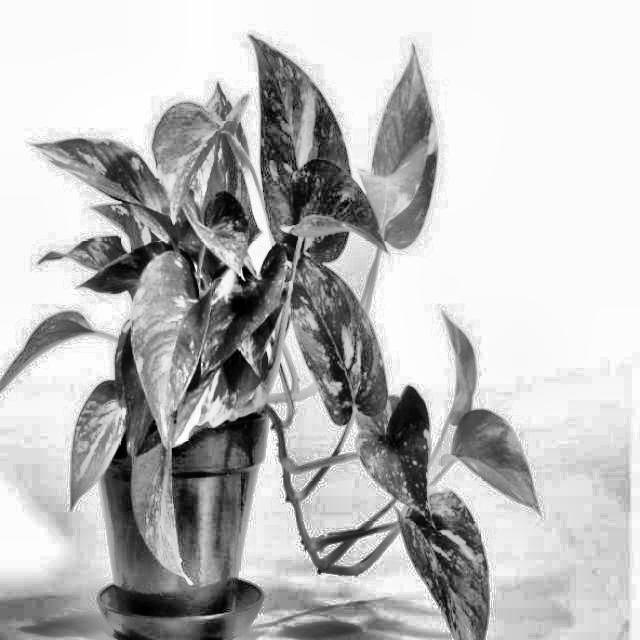plants: (51, 89, 418, 418)
